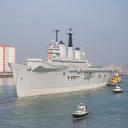Portanaves: (9, 28, 121, 101)
